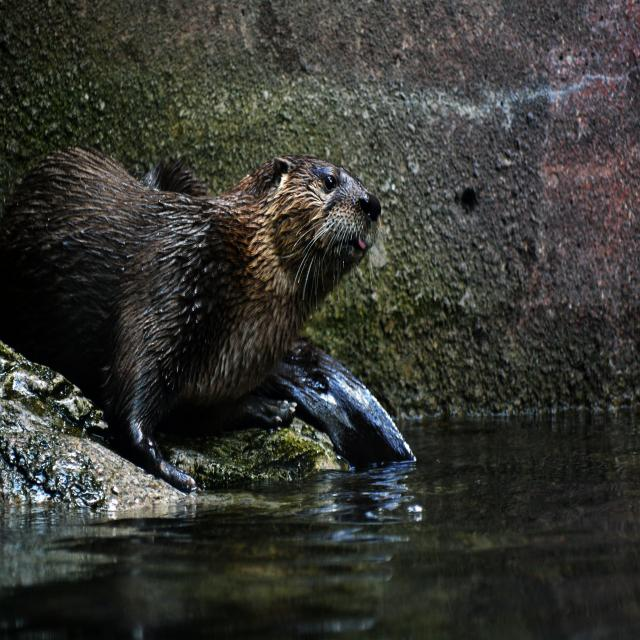otter: (10, 145, 381, 411)
